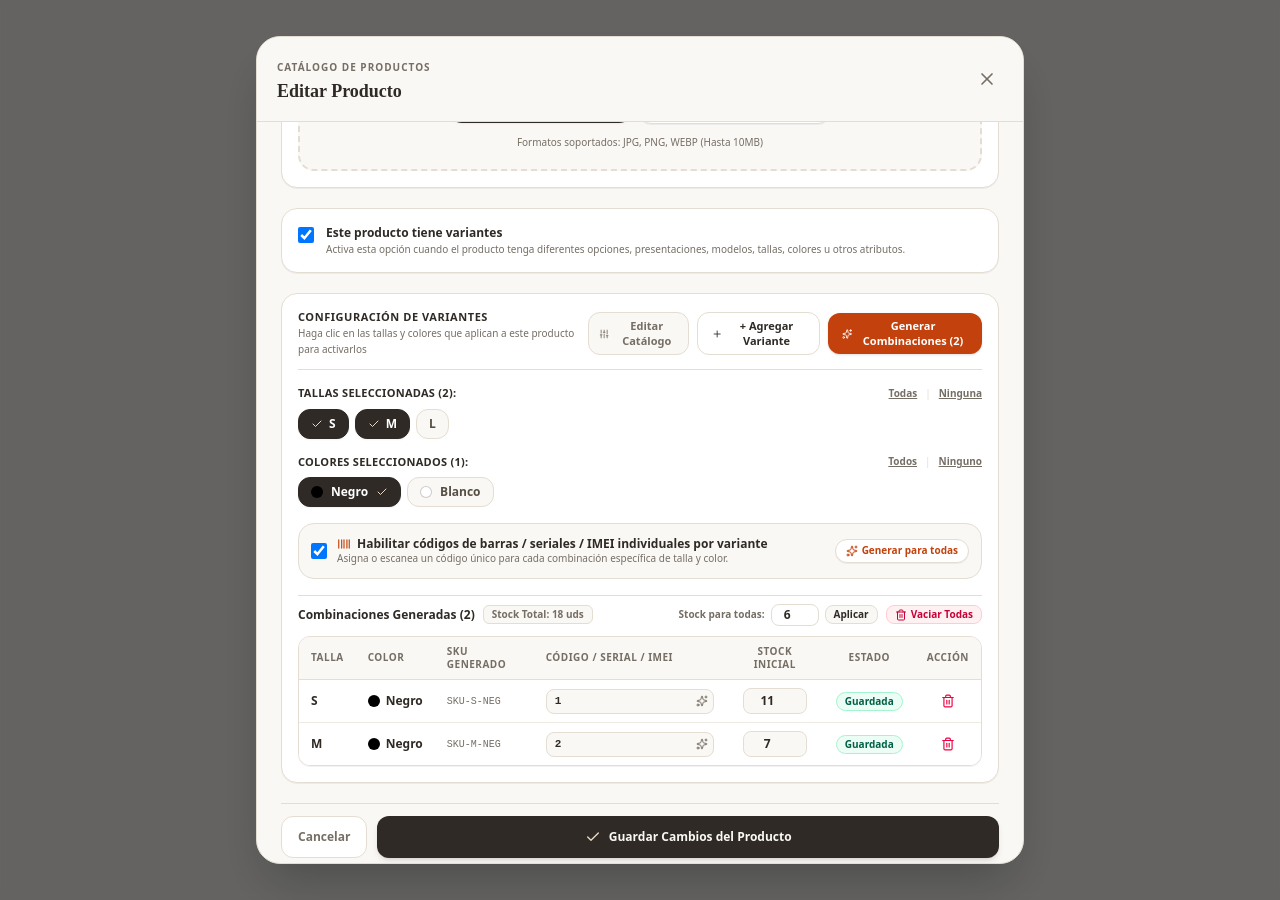
Test: ProductFormModal -- "Generar Combinaciones" es aditivo (Parte 4/13) › al editar un producto con S/Negro y M/Negro ya existentes, genera solo las combinaciones faltantes
(page scrolled)
Click the button "Blanco" at point(450, 492), box [407,477,494,507]
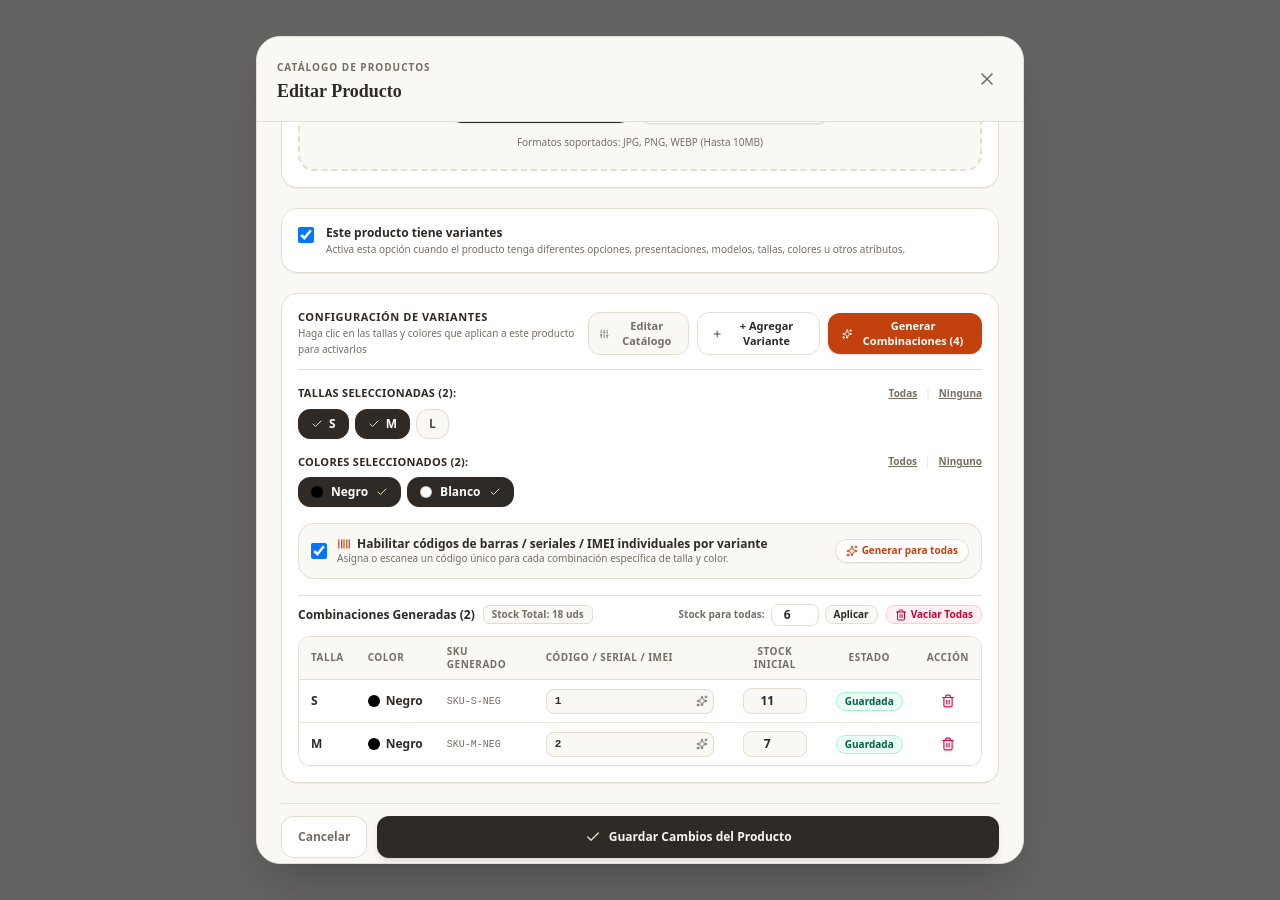
Click the button "Generar Combinaciones (4)" at point(905, 334), box [828,313,982,354]
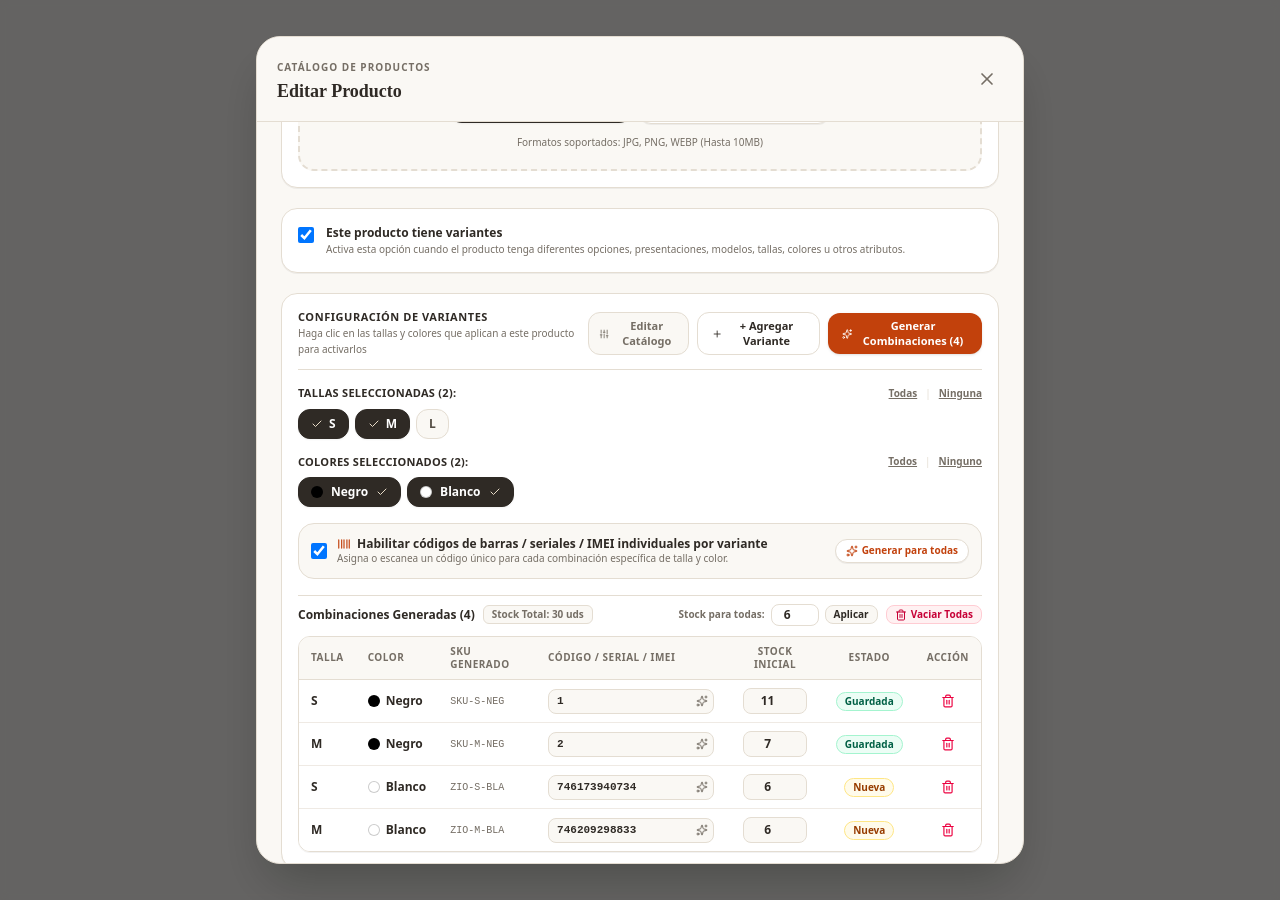
Expected: the row "S Negro SKU-S-NEG Guardada" is shown, [299,680,981,723]
Now the text "Combinaciones Generadas (4)" is shown, box [298,607,475,623]
